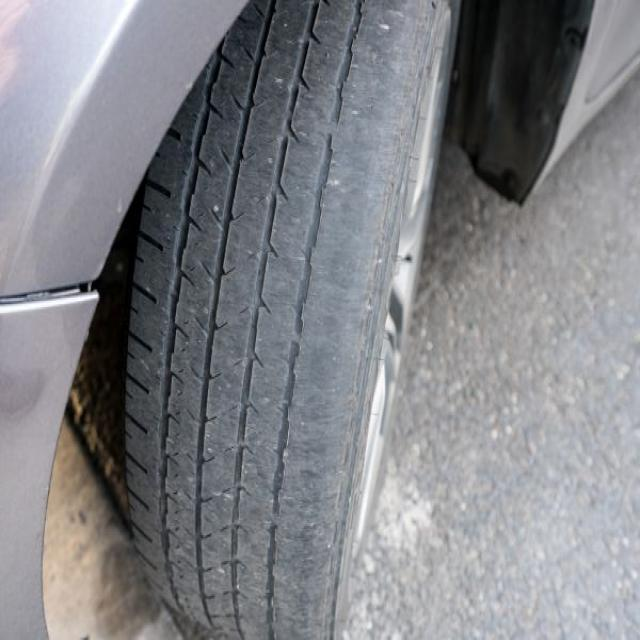Flat spots: (210, 15, 398, 589)
